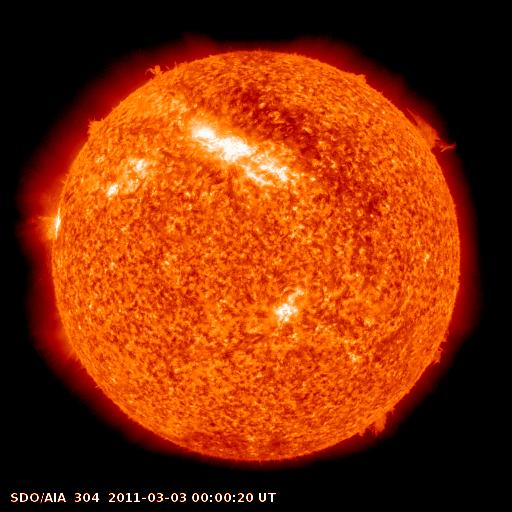prominence: (399, 101, 465, 165), (351, 394, 412, 444), (69, 107, 124, 148), (134, 53, 194, 87), (423, 321, 458, 372)
